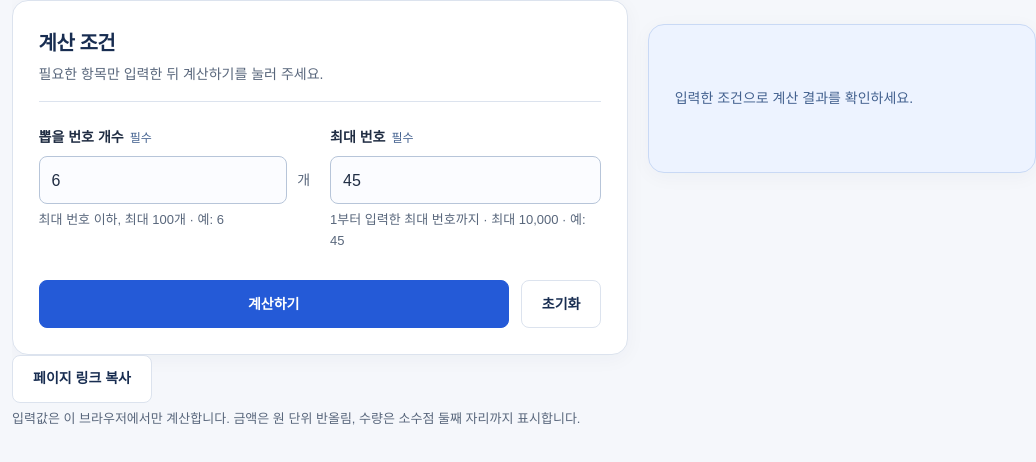
Test case: shows a local error when secure browser random generation is unavailable
Click the button "계산하기" at (274,304), box [39, 280, 509, 328]
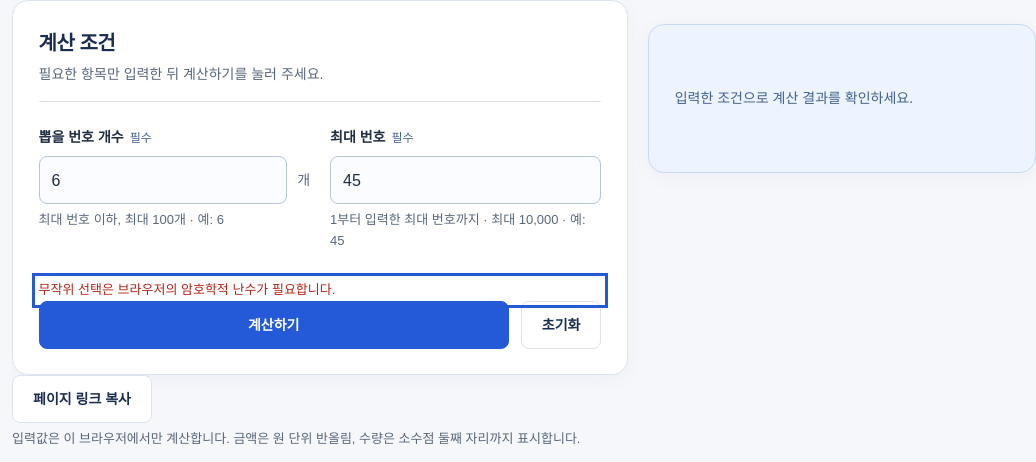
Expected: the message reads "무작위 선택은 브라우저의 암호학적 난수가 필요합니다.", [39, 282, 335, 297]
